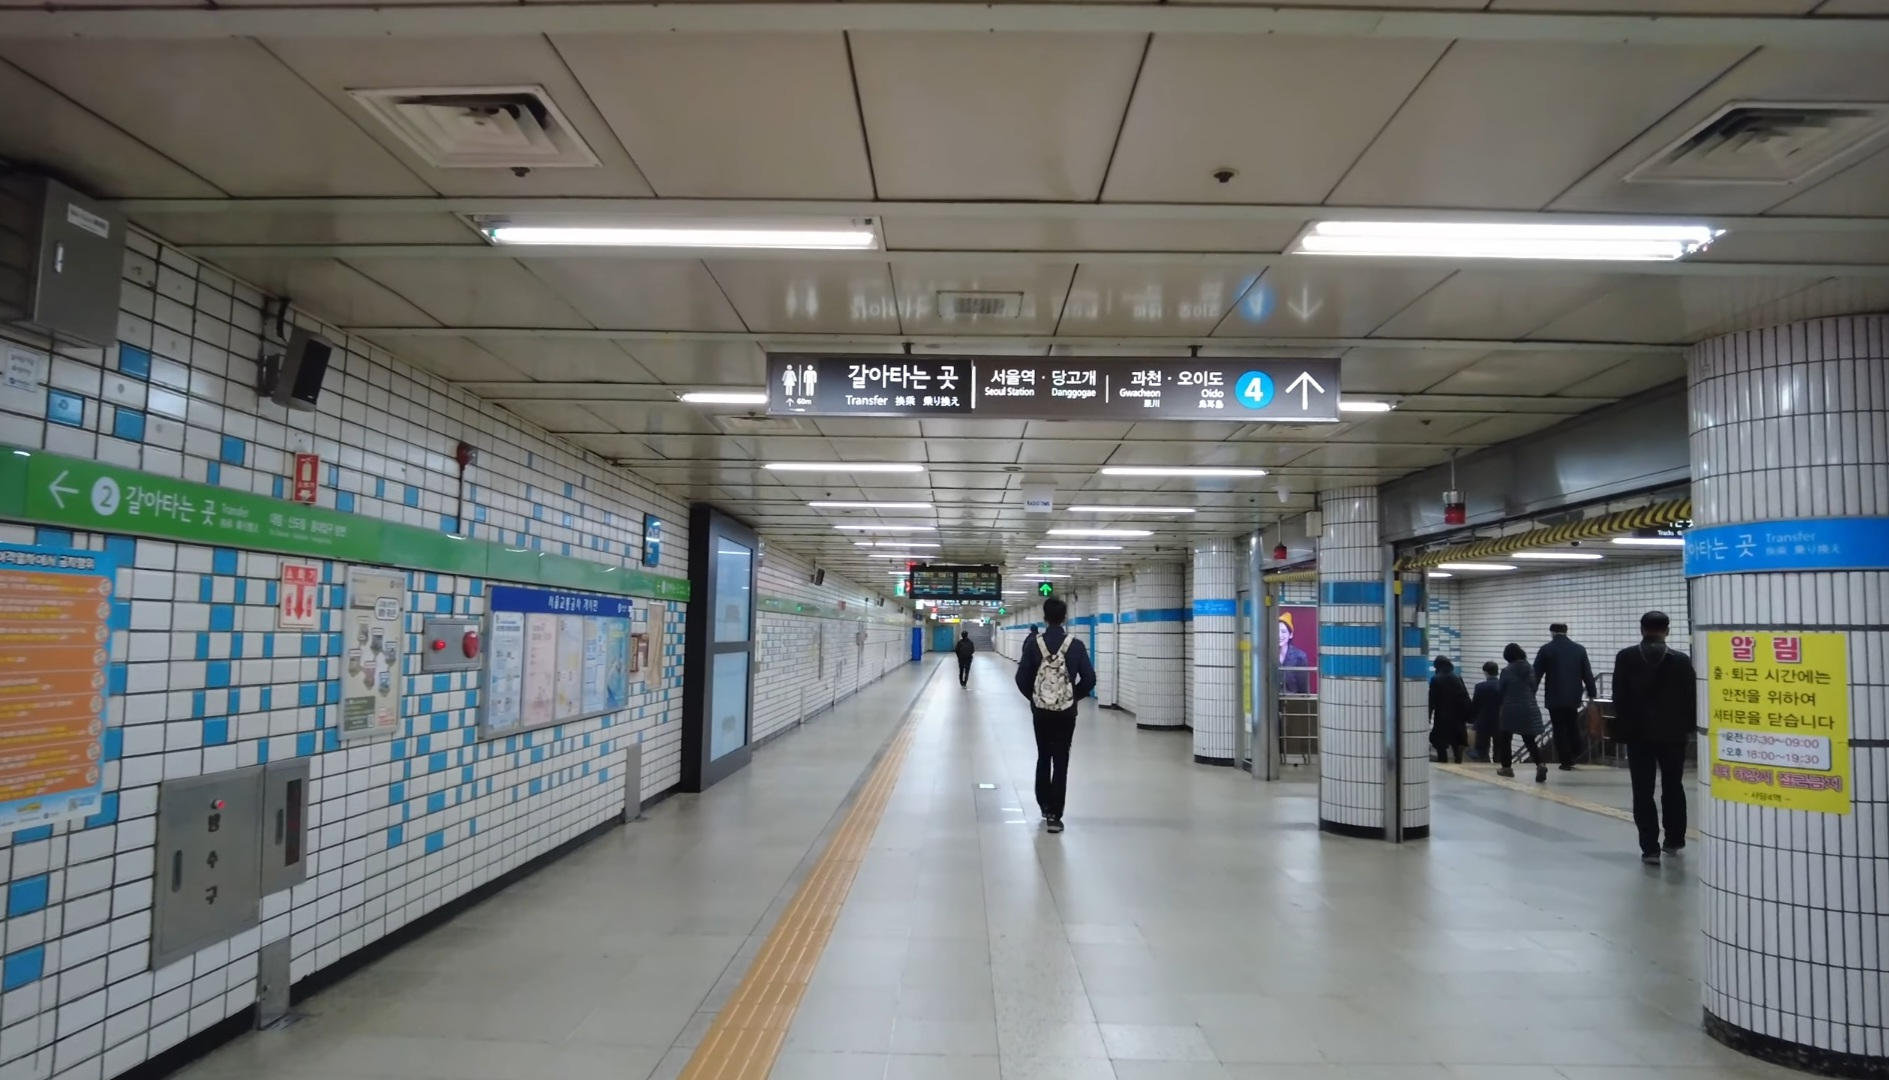signBoard: (758, 339, 1351, 432)
